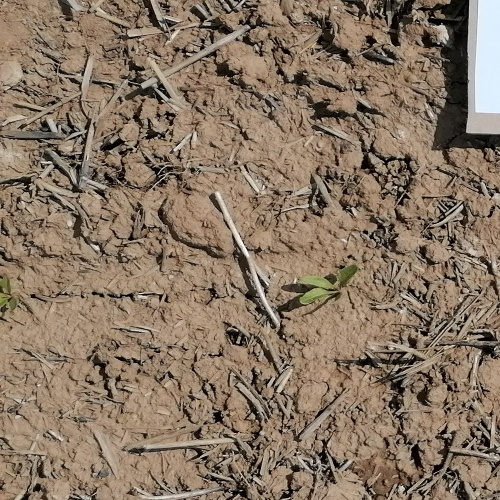beet: (298, 265, 357, 304), (0, 275, 19, 310)
